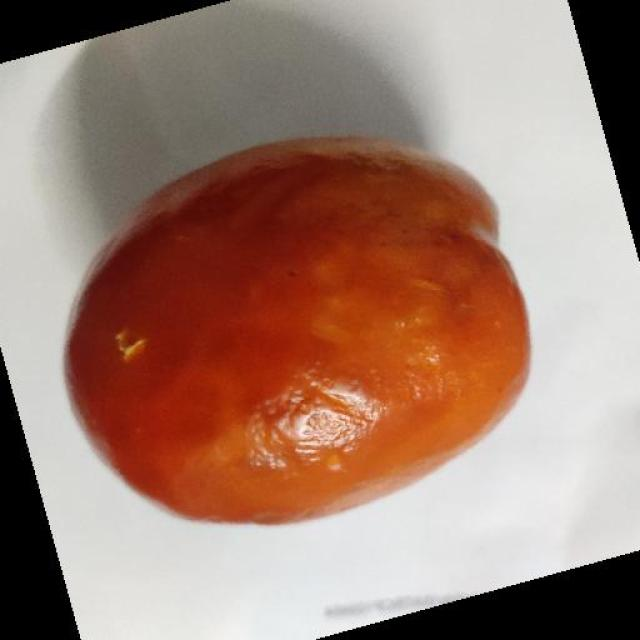Stale_tomato: (41, 144, 572, 535)
